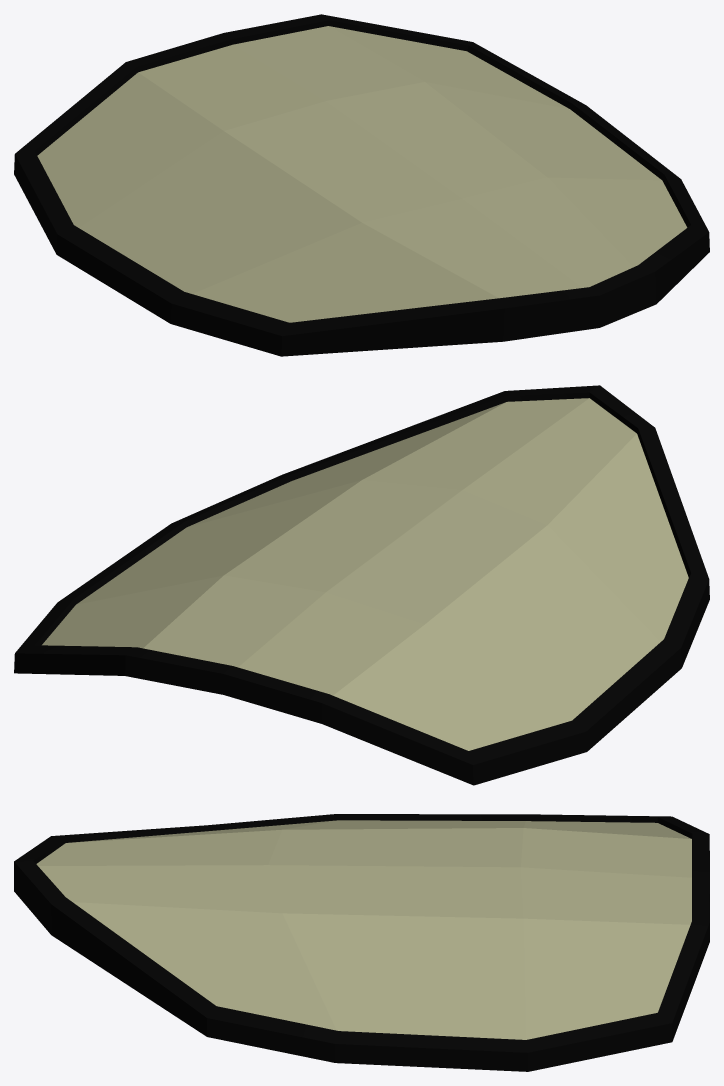
File: Shield_2.fbx
3 views of the same model, one above another, from view 1: azimuth 30°, elevation 25°; view 2: azimuth 150°, elevation 25°; view 3: azimuth 270°, elevation 25° (orthographic). The views are drawn at different scales.
Visible parts, largest first — view 1: Knight_Shield; view 2: Knight_Shield; view 3: Knight_Shield.
Boxes of the visible parts, bbox=[...] form: Knight_Shield: bbox=[14, 14, 709, 356]; Knight_Shield: bbox=[14, 385, 709, 785]; Knight_Shield: bbox=[14, 814, 709, 1071].
Bounding box in the file's own units: 48.62 × 8.66 × 59.77.
